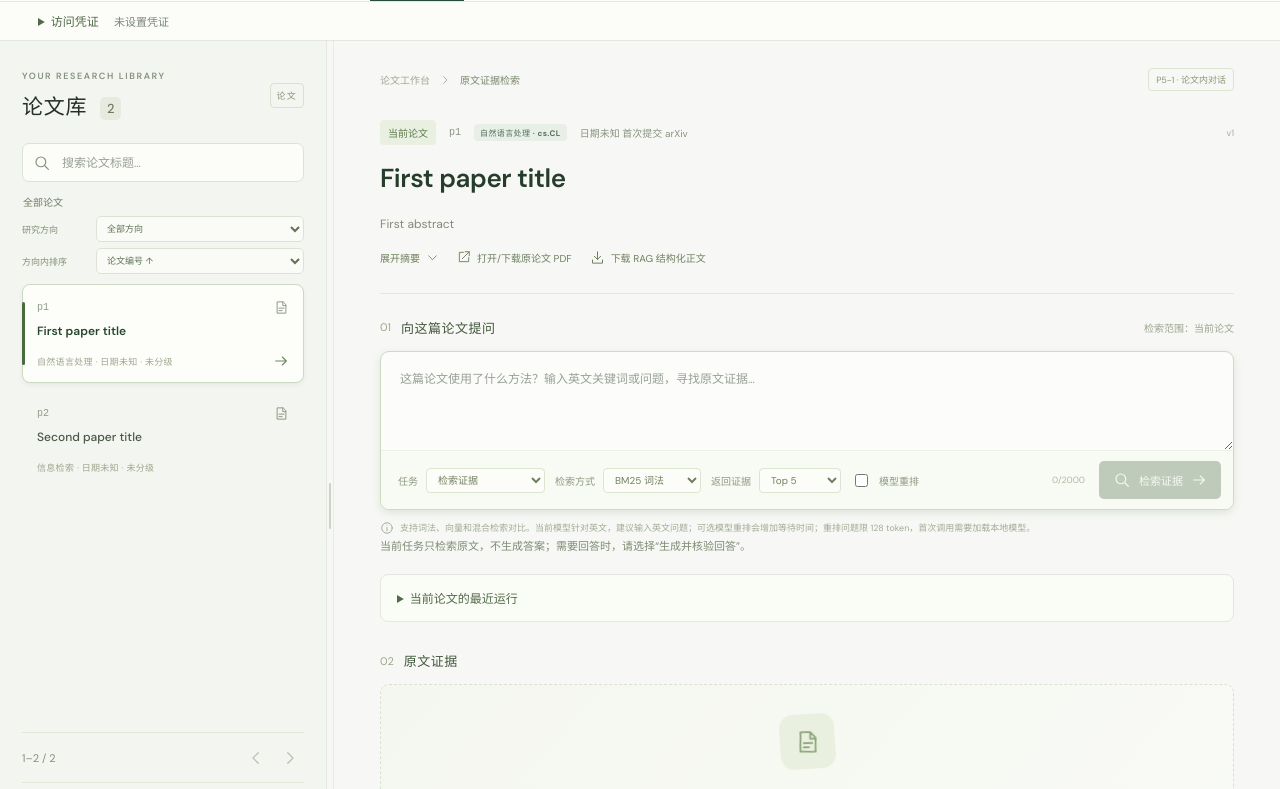
Test: completed request records › shows a collapsible final record with stage timings and reuses the response trace
Expected: the heading "First paper title" below "首次提交 arXiv" is shown, [380,161,566,195]
Select "生成并核验回答" in the dropdown labelled "任务" at (486, 480), box [426,468,545,493]
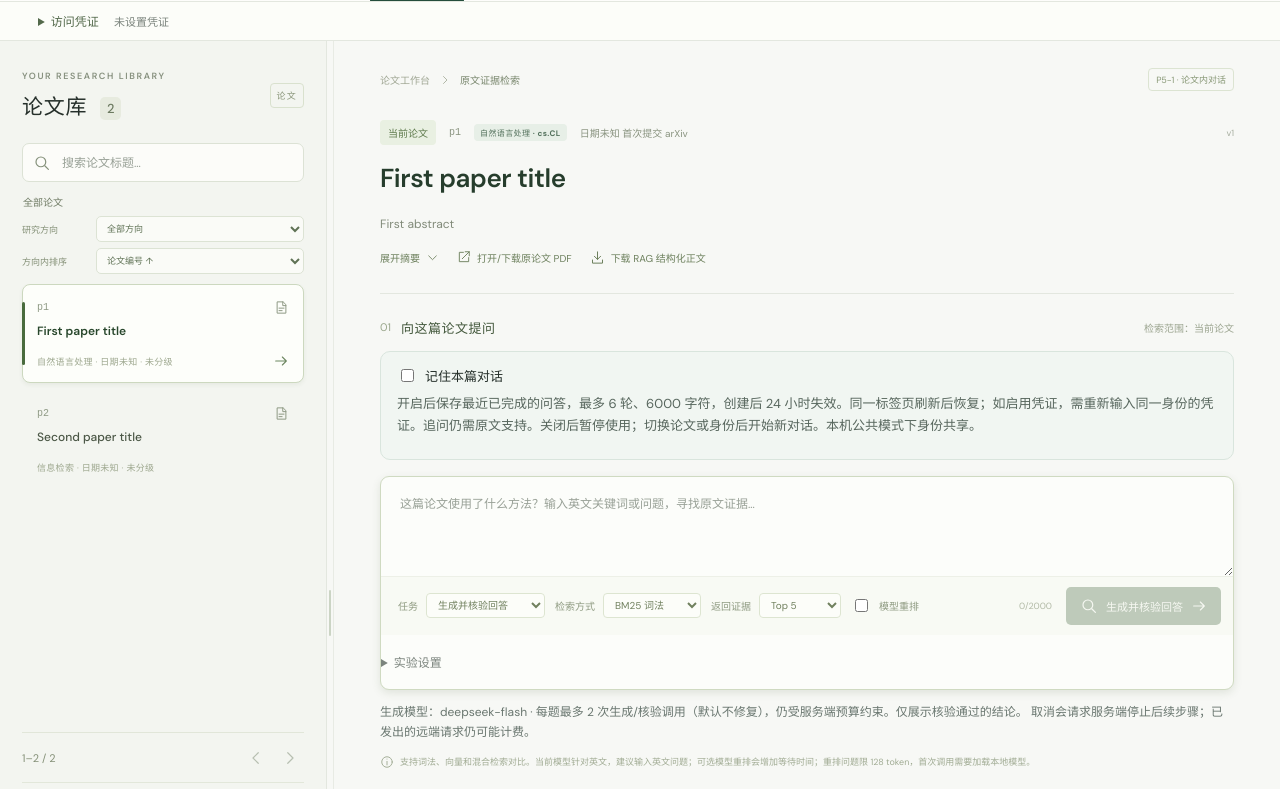
Type "method" into the text box named "输入检索问题".
click(807, 526); type("method")  # box [381,477,1233,576]
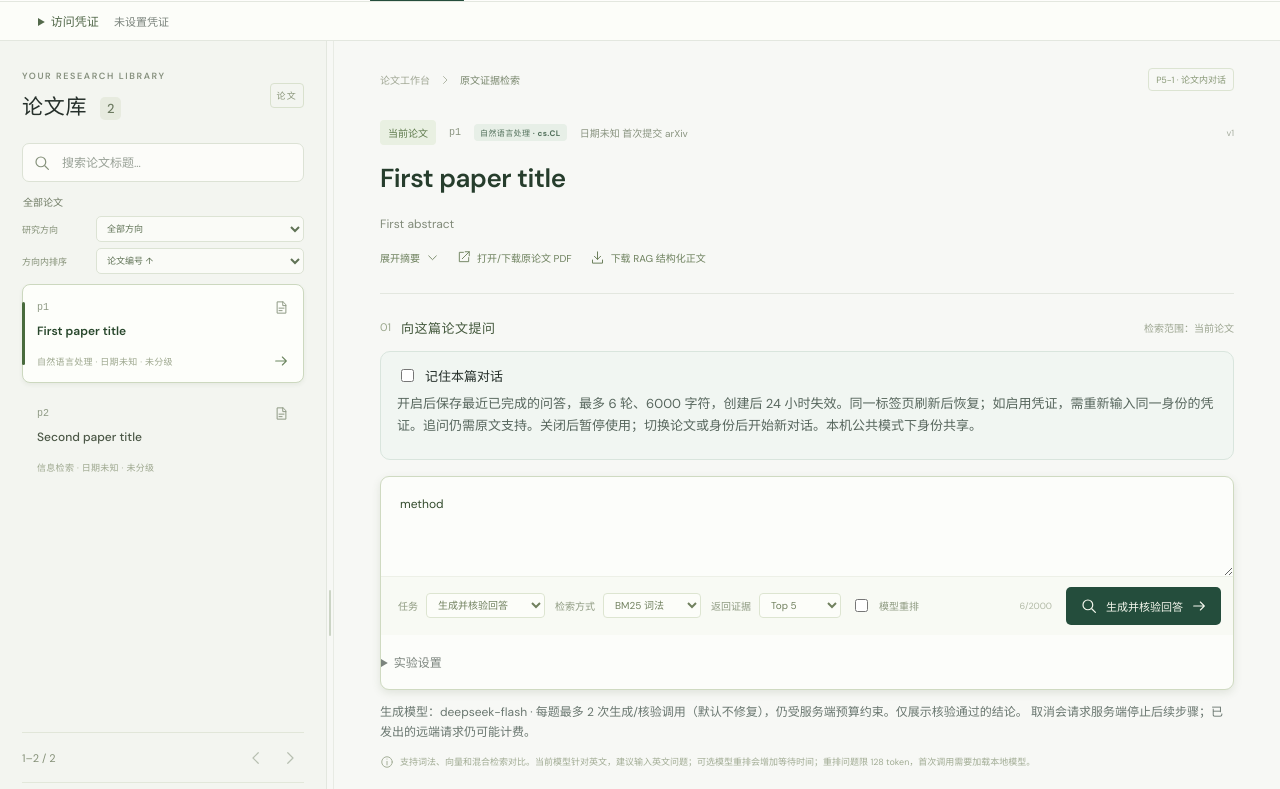
Click the button "生成并核验回答".
click(1144, 606)  # box [1066,587,1221,625]
(page scrolled)
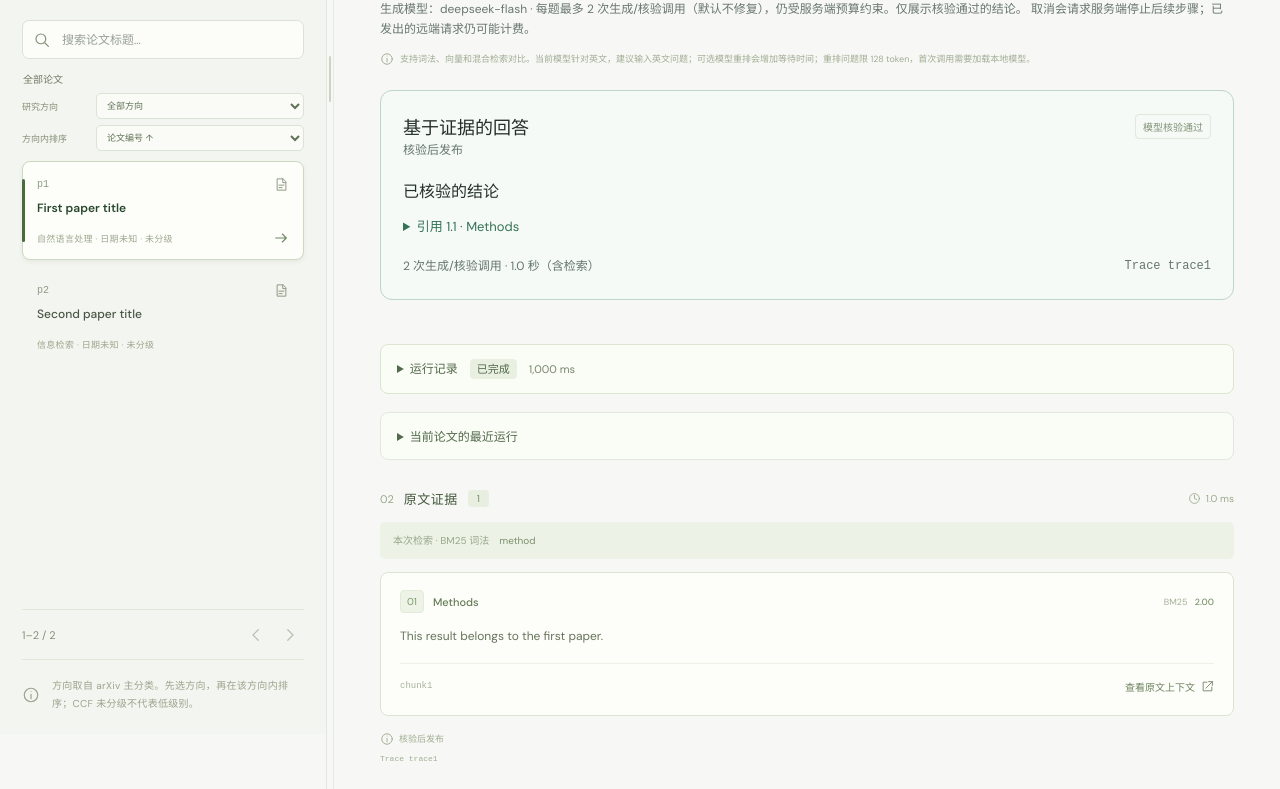
Click the text "运行记录".
click(434, 369)  # box [410,361,458,377]
(page scrolled)
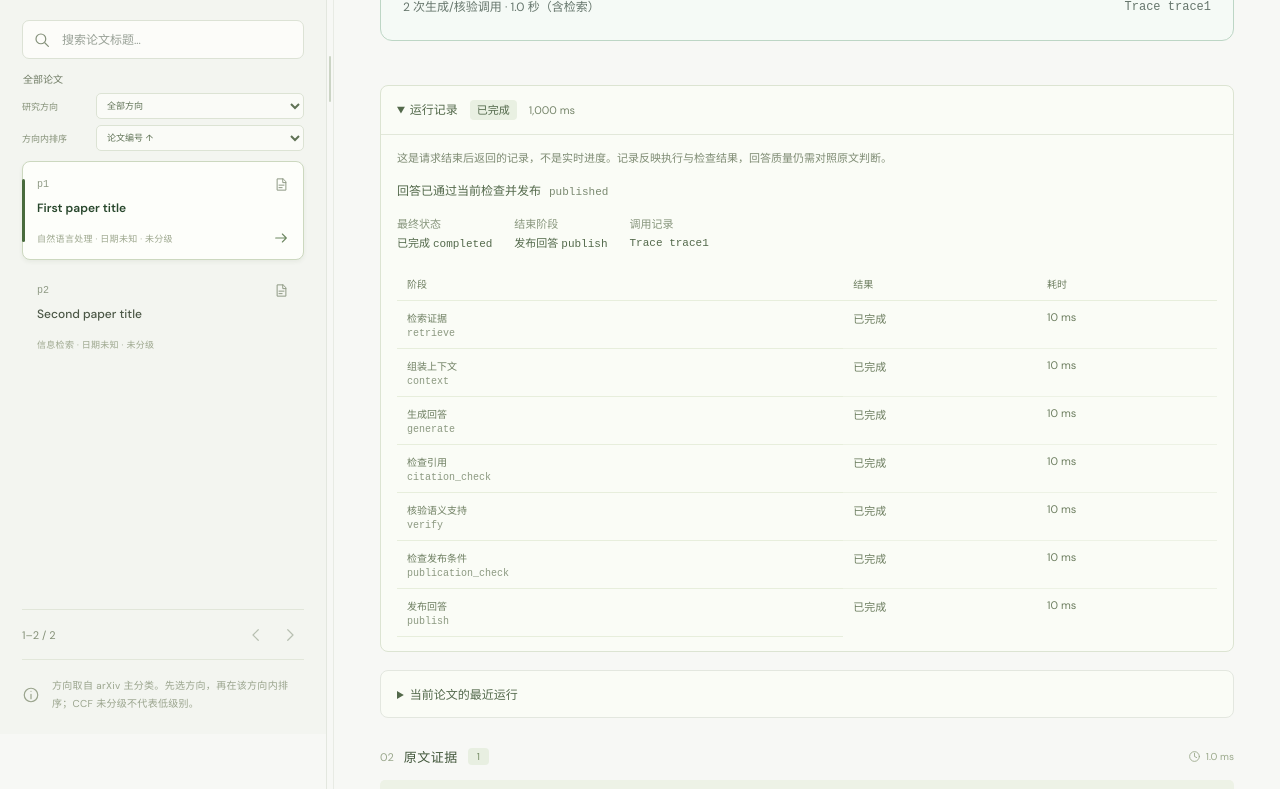
Now the text "1,000 ms" is shown, box [529,103,575,117]
Now the text "这是请求结束后返回的记录，不是实时进度。记录反映执行与检查结果，回答质量仍需对照原文判断。" is shown, box [397,151,892,165]
Now the text "published" is shown, box [549,186,608,198]
